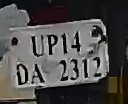1: (59, 32, 70, 55), (80, 57, 90, 80)
2: (55, 59, 70, 83), (91, 56, 102, 79)
3: (68, 57, 80, 81)
4: (69, 28, 81, 54)
A: (31, 59, 46, 86)
D: (15, 61, 29, 87)
P: (46, 31, 57, 58)
U: (30, 33, 46, 58)
